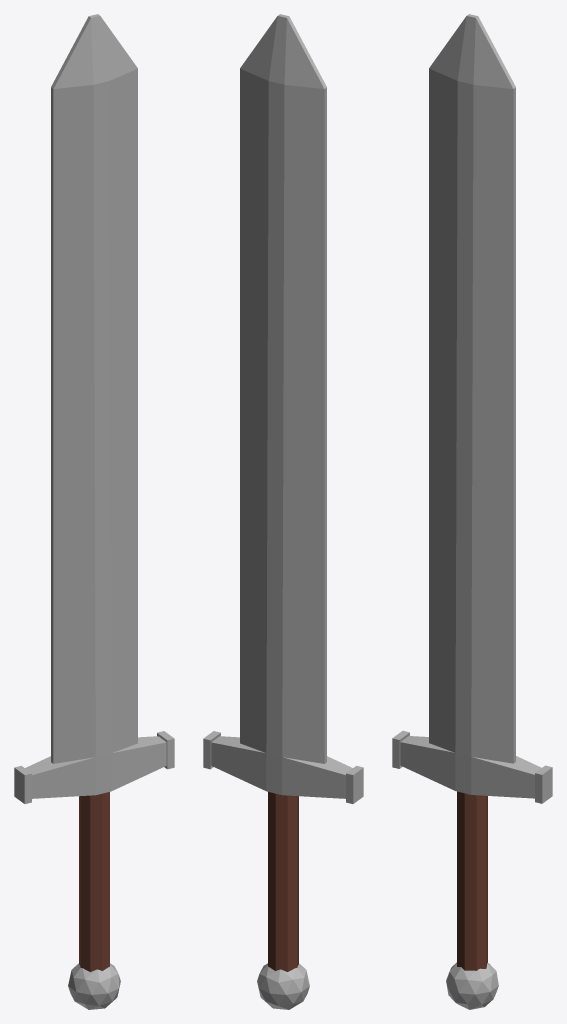
Rendered from Sword.fbx.
3 renders of one model, left to right at view 1: azimuth 30°, elevation 25°; view 2: azimuth 150°, elevation 25°; view 3: azimuth 330°, elevation 25°, orthographic.
Visible parts, largest first — view 1: Sword 0; view 2: Sword 0; view 3: Sword 0.
Part boxes in pixels (box(x1,y1,x2,y2)): Sword 0: box(14, 14, 174, 1009); Sword 0: box(203, 14, 363, 1009); Sword 0: box(392, 14, 552, 1009).
Size of the model in its own units: 0.1636 by 1.03 by 0.0511.
